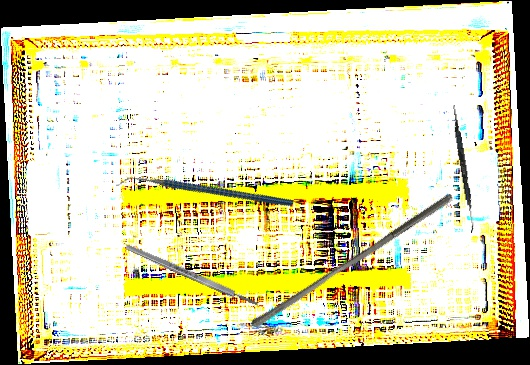Chopper: (114, 123, 295, 264)
Pusher: (249, 185, 455, 336)
Scalpel Handle: (124, 242, 260, 309)
Spatula Surgical: (448, 104, 479, 233)
